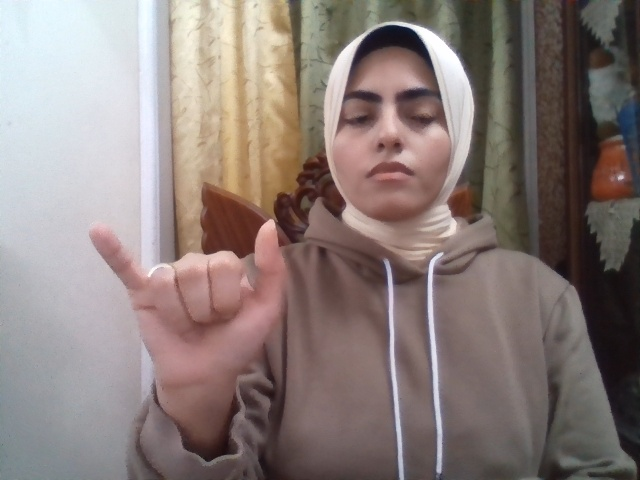Y: (90, 219, 287, 390)
